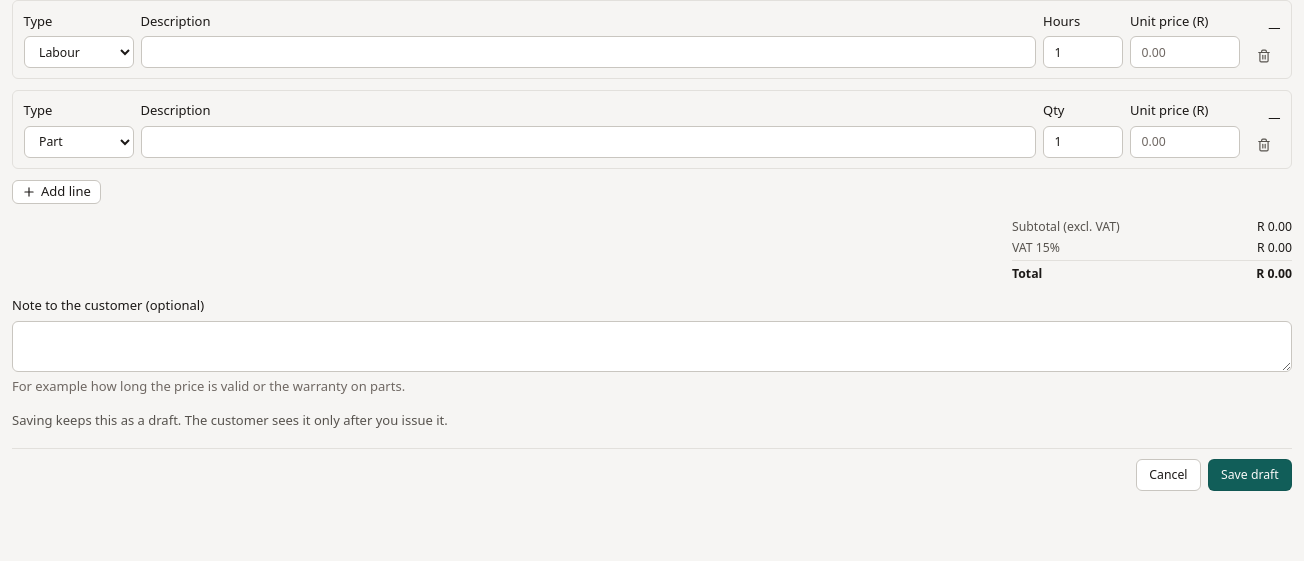
QuoteEditor › does not save lines with a missing description or an invalid price
Type "4.505" into the field labelled "Unit price (R)" below "Hours". click: (1185, 52)
box: x1=1130 y1=36 x2=1240 y2=68
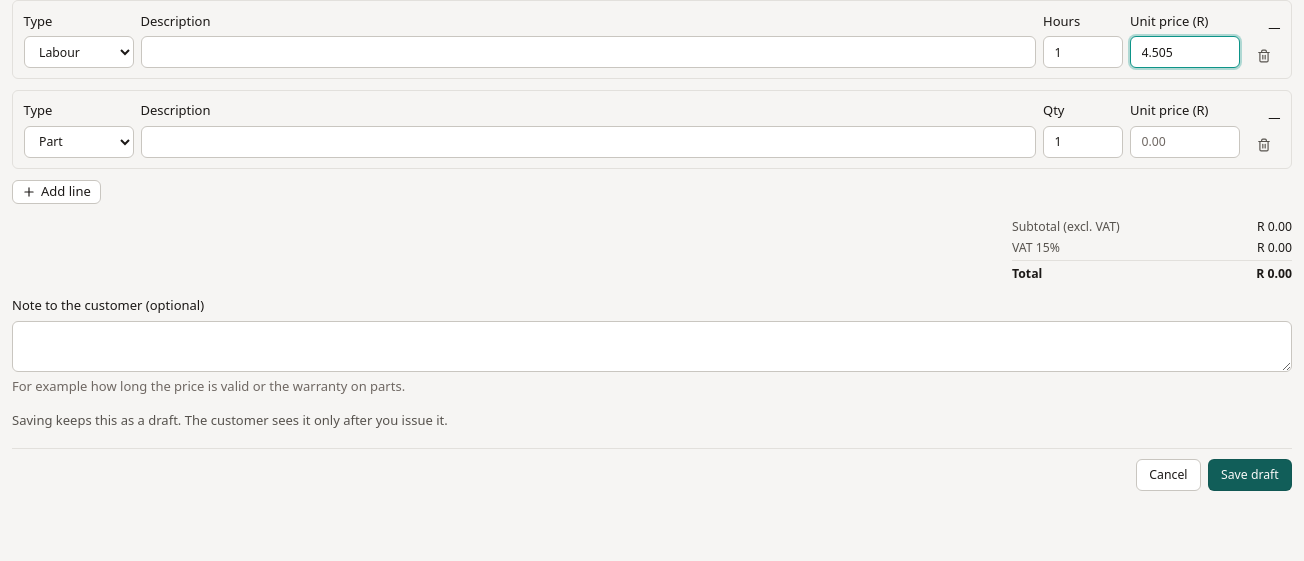
Click the button "Save draft". click: (1250, 475)
box: x1=1208 y1=459 x2=1292 y2=490
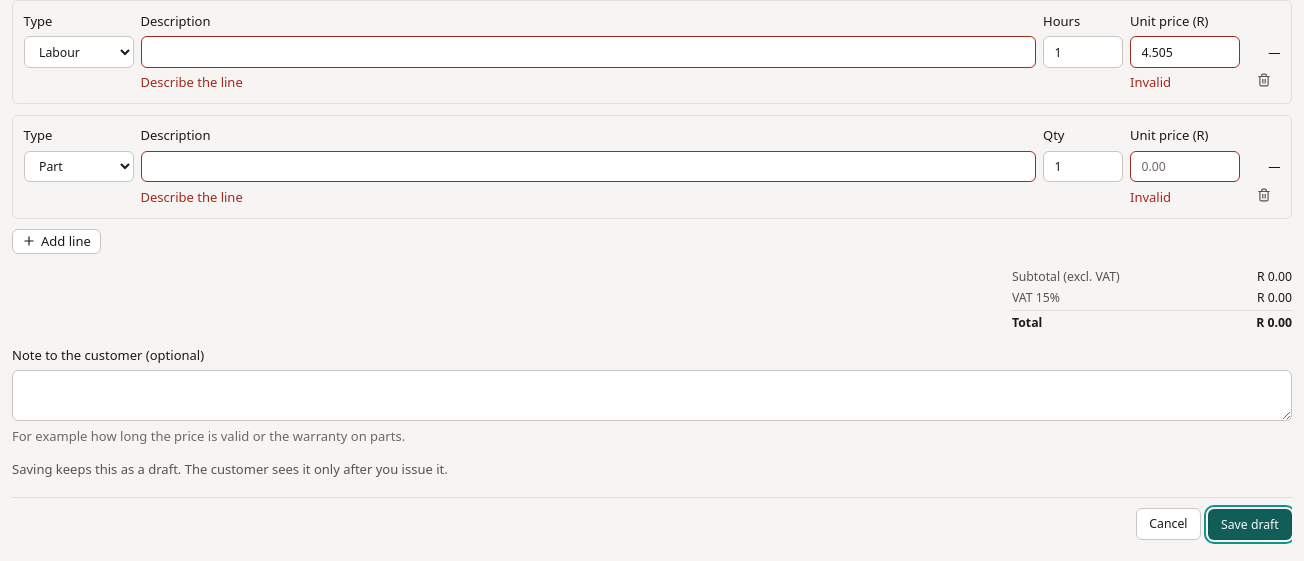
Now the text "Describe the line" below "Hours" is shown, box x1=140 y1=73 x2=243 y2=91
